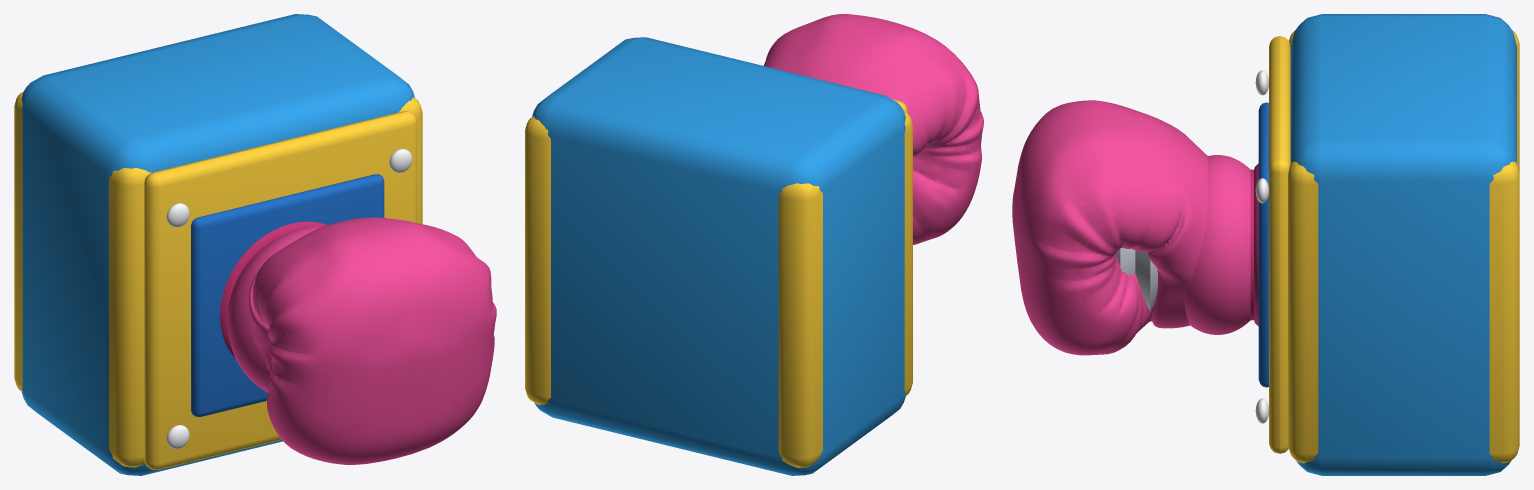
Rendered from punching_glove.glb.
3 views of the same model, side by side, from view 1: azimuth 30°, elevation 25°; view 2: azimuth 150°, elevation 25°; view 3: azimuth 270°, elevation 25° (orthographic). The views are drawn at different scales.
Visible parts, largest first — view 1: Puncher_Housing_visual, Puncher_BoxingMitt_visual, Puncher_FrontPlate_visual, Puncher_FrontInset_visual, Puncher_LeftRail_visual, Puncher_IdleButton_visual, Puncher_GloveCuff_visual, Puncher_RightRail_visual; view 2: Puncher_Housing_visual, Puncher_BoxingMitt_visual, Puncher_LeftRail_visual, Puncher_RightRail_visual; view 3: Puncher_Housing_visual, Puncher_BoxingMitt_visual, Puncher_RightRail_visual, Puncher_IdleButton_visual, Puncher_FrontPlate_visual, Puncher_FrontInset_visual, Puncher_Bellows_visual, Puncher_GloveCuff_visual, Puncher_IdleButtonBase_visual.
Boxes of the visible parts, x1,y1,x2,y2 form: Puncher_Housing_visual: [21, 14, 414, 475]; Puncher_BoxingMitt_visual: [248, 217, 496, 464]; Puncher_FrontPlate_visual: [144, 111, 417, 469]; Puncher_FrontInset_visual: [191, 174, 384, 416]; Puncher_LeftRail_visual: [14, 91, 151, 467]; Puncher_IdleButton_visual: [228, 226, 322, 392]; Puncher_GloveCuff_visual: [220, 221, 327, 358]; Puncher_RightRail_visual: [398, 97, 422, 224]; Puncher_Housing_visual: [532, 37, 905, 475]; Puncher_BoxingMitt_visual: [763, 14, 983, 244]; Puncher_LeftRail_visual: [778, 111, 912, 467]; Puncher_RightRail_visual: [525, 116, 550, 404]; Puncher_Housing_visual: [1290, 14, 1516, 475]; Puncher_BoxingMitt_visual: [1012, 100, 1207, 355]; Puncher_RightRail_visual: [1288, 161, 1519, 463]; Puncher_IdleButton_visual: [1184, 155, 1250, 334]; Puncher_FrontPlate_visual: [1269, 36, 1290, 453]; Puncher_FrontInset_visual: [1258, 102, 1268, 387]; Puncher_Bellows_visual: [1116, 248, 1157, 311]; Puncher_GloveCuff_visual: [1254, 163, 1258, 326]; Puncher_IdleButtonBase_visual: [1250, 169, 1253, 320].
Size of what is drawn, in the model's own units: 1.68 by 1.76 by 2.42.
